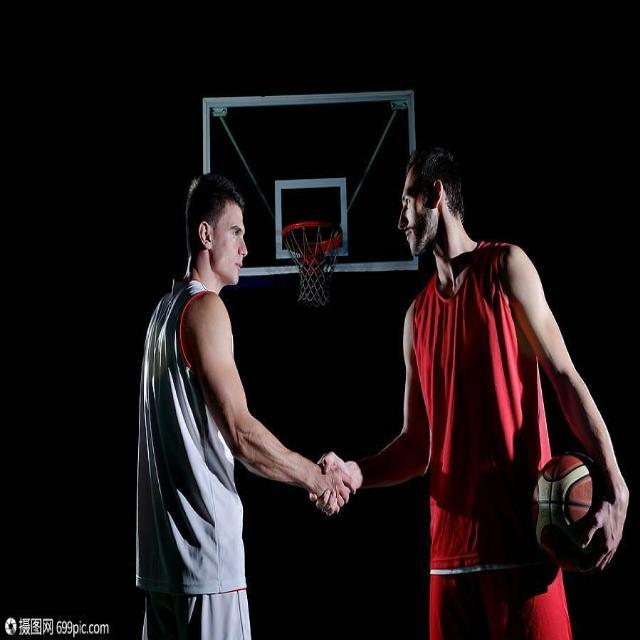rim: (532, 446, 610, 568)
